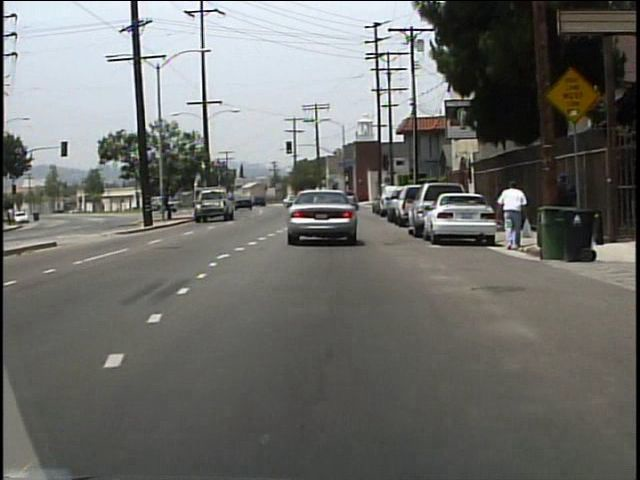person: (497, 178, 530, 253)
